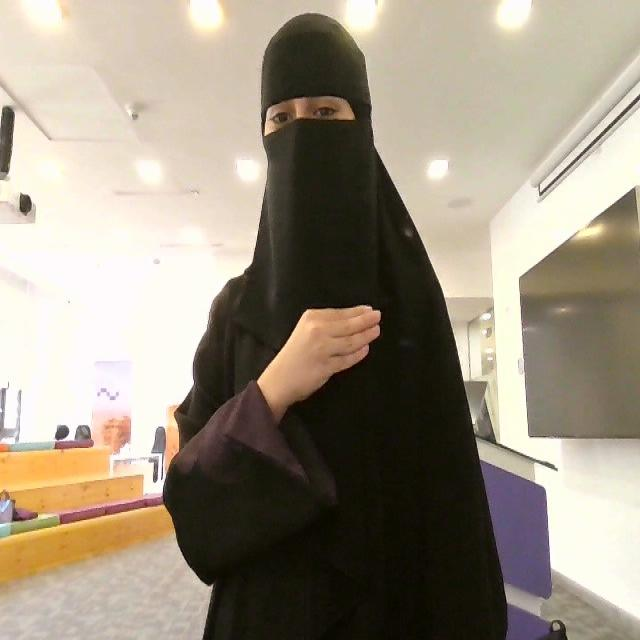result: (257, 303, 381, 409)
